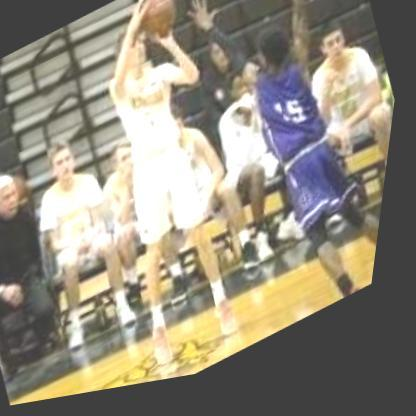basketball: (128, 0, 189, 55)
